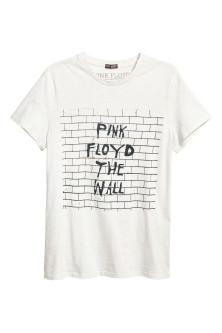teeshirt: (11, 44, 213, 307)
